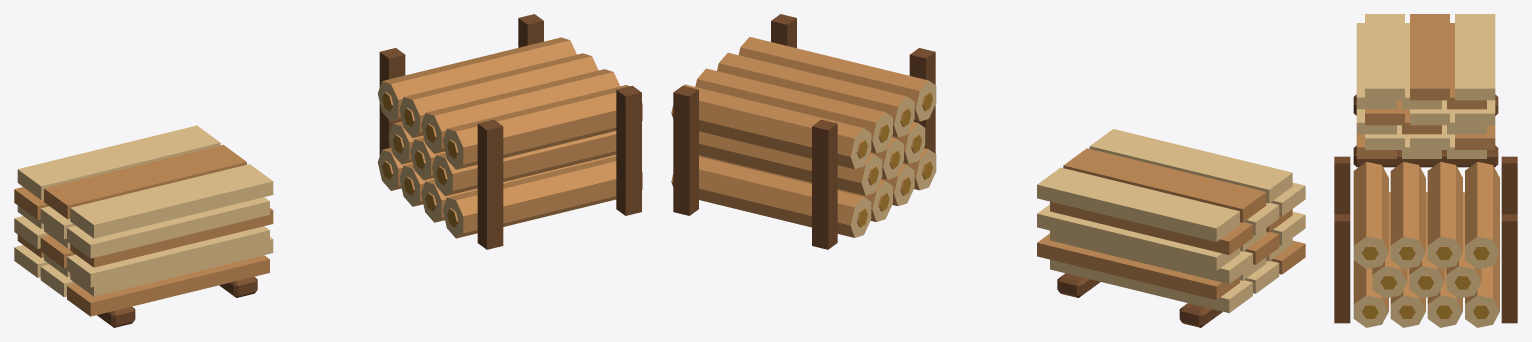
Rendered from warehouse_l1_fill.fbx.
3 views of the same model, side by side, from view 1: azimuth 30°, elevation 25°; view 2: azimuth 150°, elevation 25°; view 3: azimuth 270°, elevation 25° (orthographic). The views are drawn at different scales.
Parts seen in each view (by area): view 1: Fill_planks_3, Fill_logs_3, Fill_logs_1, Fill_planks_1, Fill_planks_2, Fill_logs_2; view 2: Fill_planks_3, Fill_logs_3, Fill_logs_1, Fill_planks_1, Fill_planks_2, Fill_logs_2; view 3: Fill_logs_3, Fill_planks_3, Fill_logs_1, Fill_planks_1, Fill_logs_2, Fill_planks_2.
Part boxes in pixels (bbox=[...]): Fill_planks_3: bbox=[14, 125, 273, 258]; Fill_logs_3: bbox=[378, 37, 642, 169]; Fill_logs_1: bbox=[378, 14, 642, 249]; Fill_planks_1: bbox=[14, 234, 273, 327]; Fill_planks_2: bbox=[14, 205, 273, 287]; Fill_logs_2: bbox=[388, 121, 616, 196]; Fill_planks_3: bbox=[1037, 129, 1305, 254]; Fill_logs_3: bbox=[671, 37, 936, 169]; Fill_logs_1: bbox=[671, 14, 936, 249]; Fill_planks_1: bbox=[1037, 233, 1305, 327]; Fill_planks_2: bbox=[1037, 204, 1305, 283]; Fill_logs_2: bbox=[699, 121, 925, 195]; Fill_logs_3: bbox=[1353, 162, 1499, 269]; Fill_planks_3: bbox=[1356, 14, 1495, 109]; Fill_logs_1: bbox=[1334, 156, 1517, 327]; Fill_planks_1: bbox=[1353, 94, 1498, 167]; Fill_logs_2: bbox=[1372, 192, 1481, 298]; Fill_planks_2: bbox=[1356, 100, 1495, 134].
Bounding box in the file's own units: 0.8124 × 0.168 × 0.2736.
